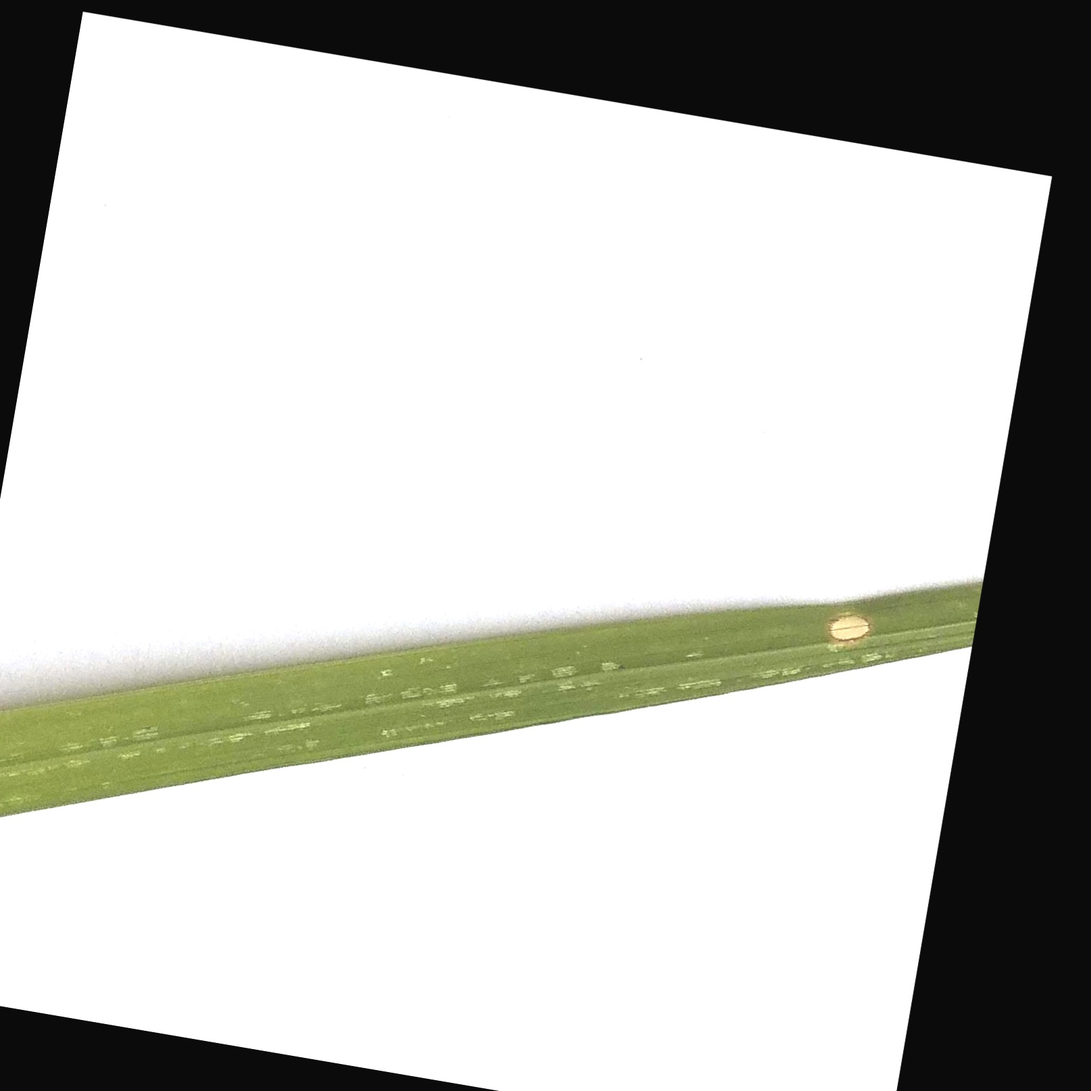Brown_Spot: (819, 597, 891, 649)
